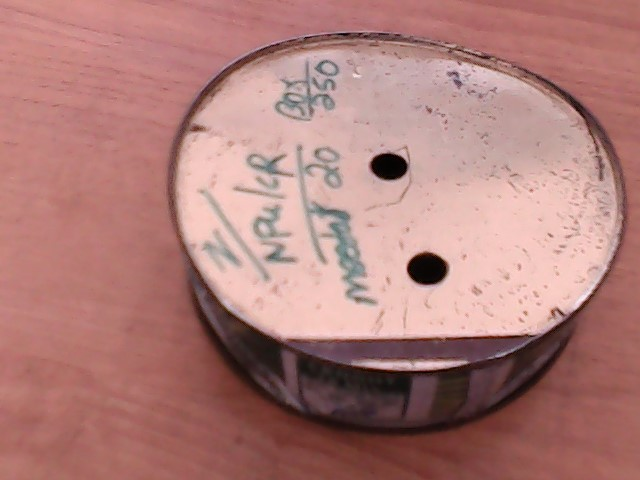Metal: (172, 31, 640, 431)
